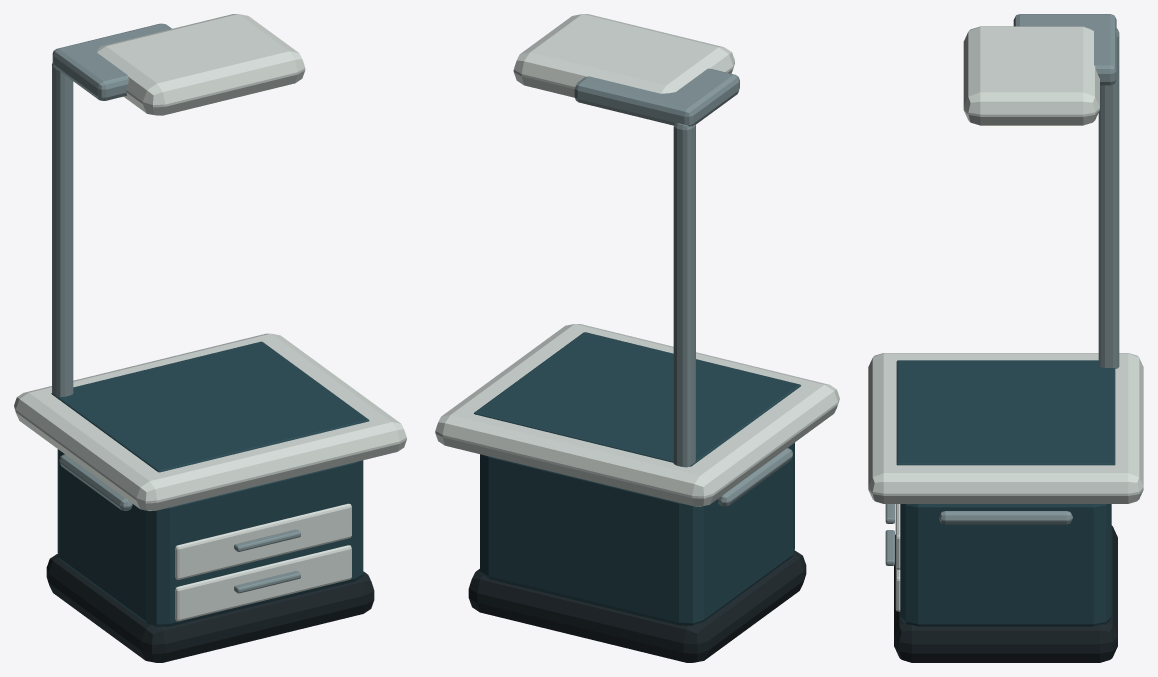
The model's file is bancada-arena.glb.
3 views of the same model, side by side, from view 1: azimuth 30°, elevation 25°; view 2: azimuth 150°, elevation 25°; view 3: azimuth 270°, elevation 25° (orthographic). The views are drawn at different scales.
Visible parts, largest first — view 1: Arena_Petroleo.001, Arena_Esmalte_Marfim.002, Arena_Aluminio_Acetinado.001, Arena_Borracha.001; view 2: Arena_Petroleo.001, Arena_Esmalte_Marfim.002, Arena_Aluminio_Acetinado.001, Arena_Borracha.001; view 3: Arena_Petroleo.001, Arena_Esmalte_Marfim.002, Arena_Aluminio_Acetinado.001, Arena_Borracha.001.
Part boxes in pixels (x1=…): Arena_Petroleo.001: x1=51, y1=341, x2=369, y2=626; Arena_Esmalte_Marfim.002: x1=14, y1=14, x2=406, y2=621; Arena_Aluminio_Acetinado.001: x1=52, y1=23, x2=300, y2=593; Arena_Borracha.001: x1=46, y1=553, x2=374, y2=662; Arena_Petroleo.001: x1=474, y1=332, x2=800, y2=625; Arena_Esmalte_Marfim.002: x1=435, y1=14, x2=839, y2=506; Arena_Aluminio_Acetinado.001: x1=574, y1=68, x2=792, y2=506; Arena_Borracha.001: x1=468, y1=550, x2=806, y2=662; Arena_Petroleo.001: x1=896, y1=360, x2=1115, y2=626; Arena_Esmalte_Marfim.002: x1=868, y1=26, x2=1143, y2=611; Arena_Aluminio_Acetinado.001: x1=885, y1=14, x2=1119, y2=565; Arena_Borracha.001: x1=894, y1=525, x2=1117, y2=662.
Bounding box in the file's own units: 1.22 × 2.37 × 1.07.
